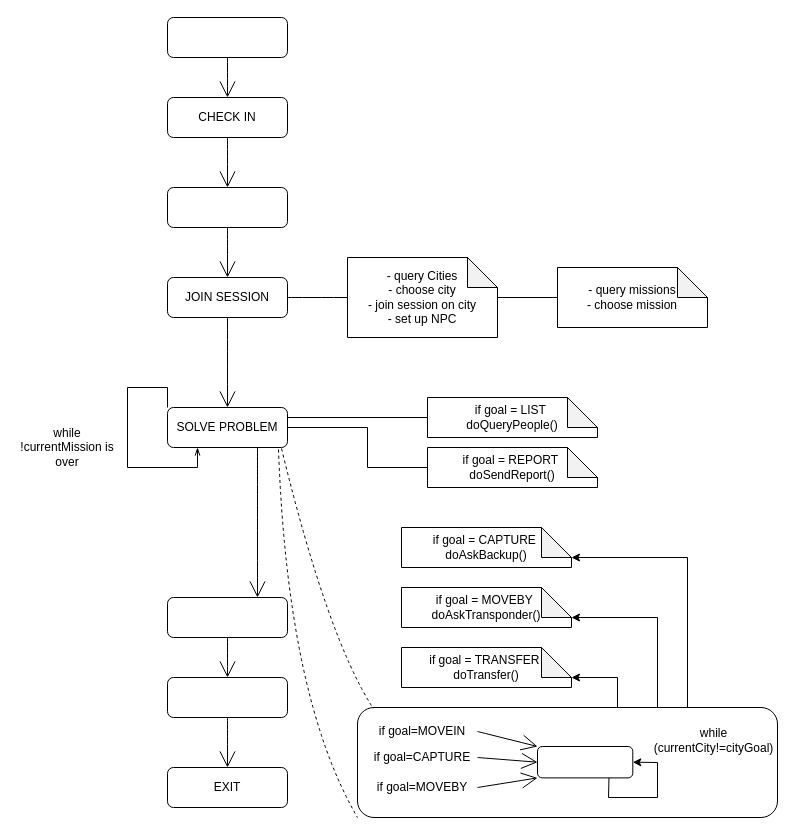
Some shapes in this 795 by 835 pixel diagram are drawn without their labels. Here are the shapes that lost their labels. From the top down, the centre of each, then its label:
[227,37]: START
[227,207]: OPEN PROBLEM
[227,617]: CLOSE PROBLEM
[227,697]: CHECKOUT
[584,762]: MOVECITY
